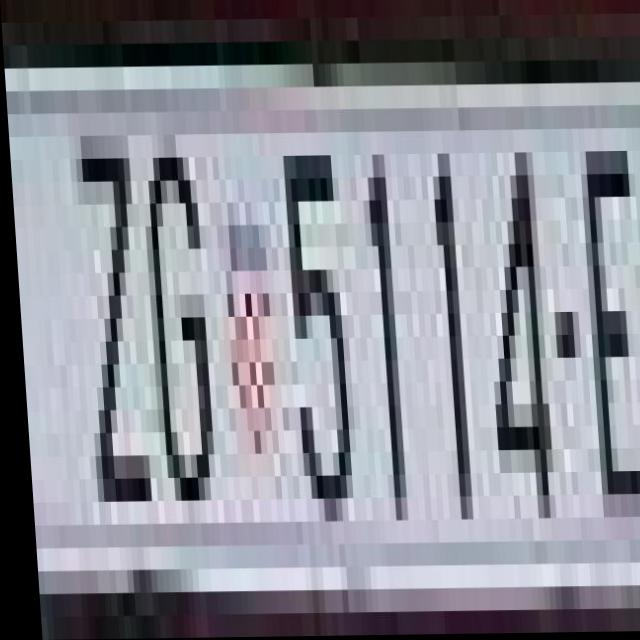1: (343, 110, 407, 522), (414, 109, 473, 544)
4: (461, 85, 557, 566)
5: (267, 110, 354, 523)
E: (569, 107, 640, 519)
G: (132, 135, 216, 502)
Z: (65, 113, 151, 502)
